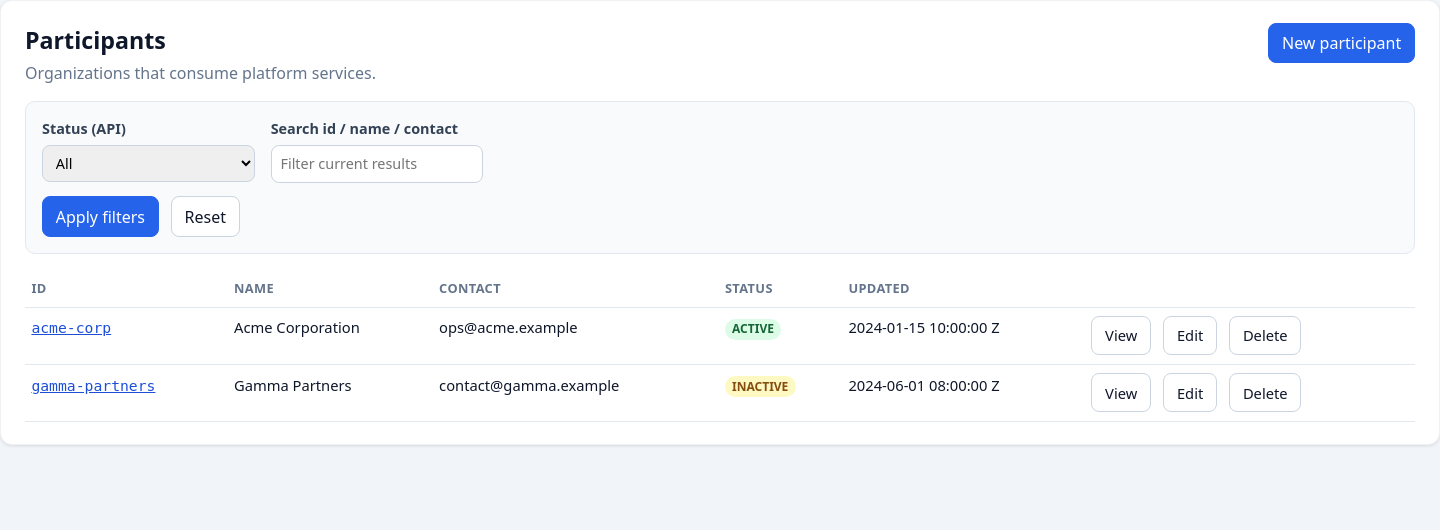
Test: ParticipantListPage › shows delete API error
Check: the text "Acme Corporation" is shown, box [228, 307, 433, 364]
Click the button "Delete" in the row of "acme-corp". click: (1265, 336)
box: [1229, 316, 1302, 355]
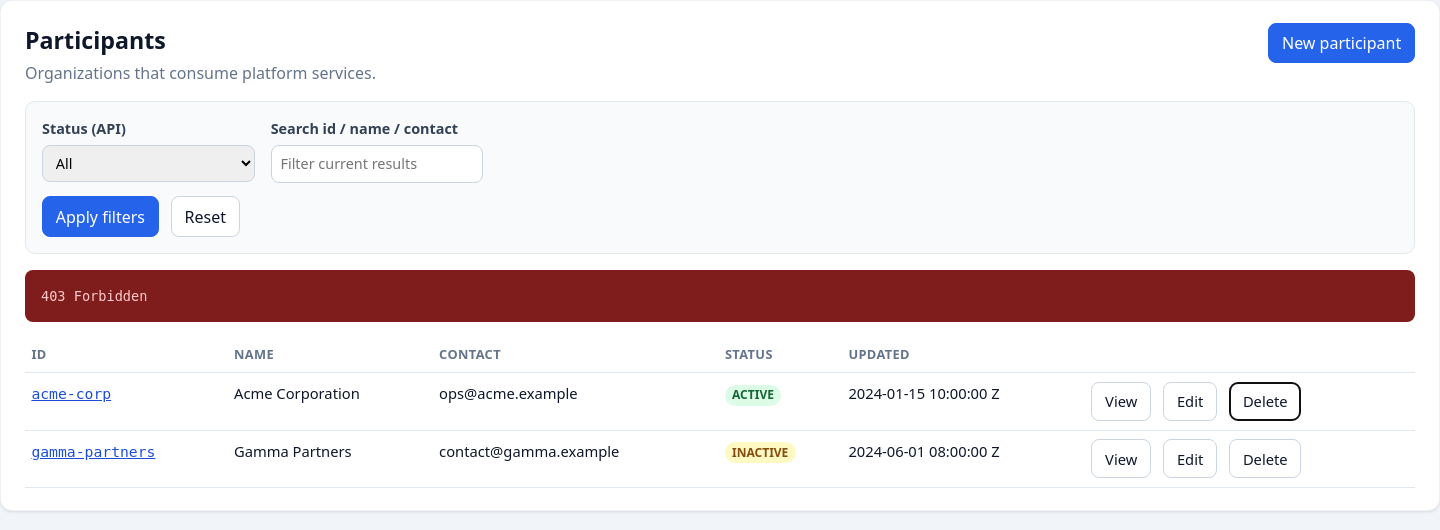
Check: the text "403 Forbidden" is shown, box [25, 270, 1415, 322]
